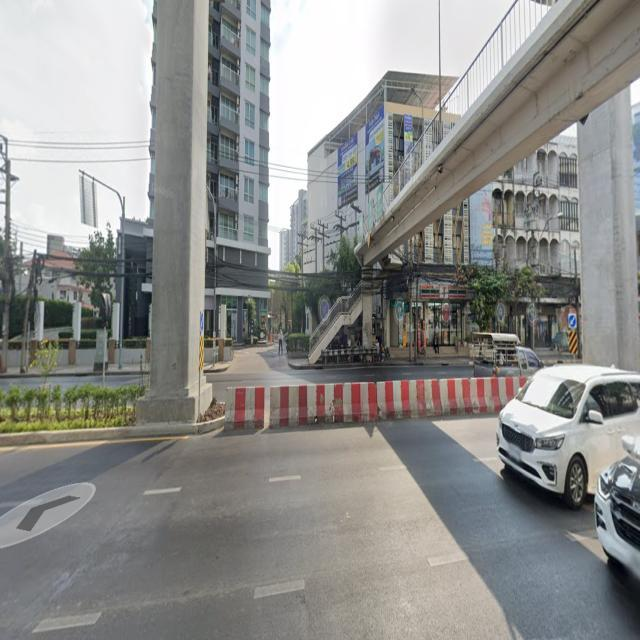fallen_object: (237, 367, 394, 429), (363, 369, 548, 413), (197, 375, 273, 442)
